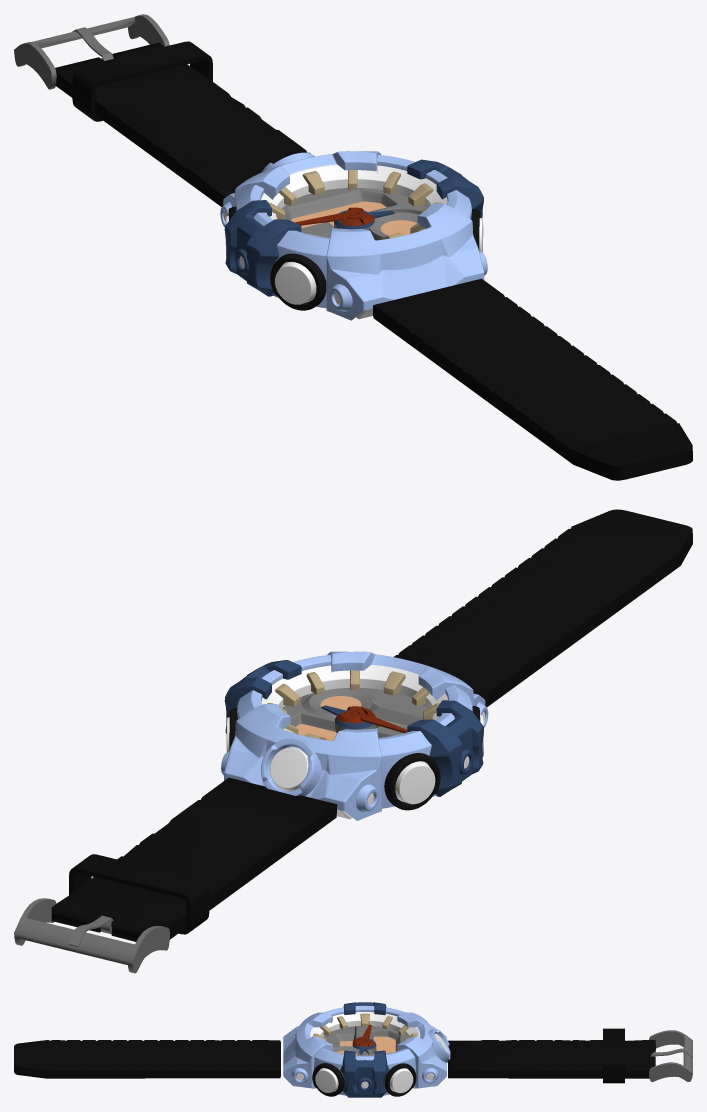
File: sport_watch.fbx
The picture shows the model from 3 angles, top to bottom: view 1: azimuth 30°, elevation 25°; view 2: azimuth 150°, elevation 25°; view 3: azimuth 270°, elevation 25°; orthographic projection. The views are drawn at different scales.
Parts seen in each view (by area): view 1: sport watch012, sport watch013, sport watch020, sport watch027, sport watch019, sport watch014, sport watch017, sport watch021, sport watch032, sport watch026, sport watch022, sport watch016 (+4 smaller); view 2: sport watch012, sport watch013, sport watch017, sport watch027, sport watch032, sport watch014, sport watch019, sport watch016, sport watch021, sport watch020, sport watch026, sport watch022 (+4 smaller); view 3: sport watch012, sport watch013, sport watch017, sport watch020, sport watch018, sport watch027, sport watch032, sport watch014, sport watch025, sport watch016, sport watch021, sport watch029 (+5 smaller).
Boxes of the visible parts, <box> form: sport watch012: <box>373,278,692,480</box>; sport watch013: <box>55,42,314,206</box>; sport watch020: <box>326,203,487,320</box>; sport watch027: <box>282,188,425,240</box>; sport watch019: <box>224,200,301,296</box>; sport watch014: <box>72,41,212,121</box>; sport watch017: <box>220,151,381,227</box>; sport watch021: <box>261,164,447,231</box>; sport watch032: <box>14,14,169,89</box>; sport watch026: <box>236,185,329,307</box>; sport watch022: <box>268,170,441,239</box>; sport watch016: <box>225,215,483,304</box>; sport watch012: <box>394,509,692,706</box>; sport watch013: <box>51,777,337,941</box>; sport watch017: <box>221,704,381,820</box>; sport watch027: <box>282,688,427,740</box>; sport watch032: <box>14,898,169,973</box>; sport watch014: <box>69,854,209,934</box>; sport watch019: <box>407,700,483,796</box>; sport watch016: <box>226,715,483,804</box>; sport watch021: <box>261,665,447,733</box>; sport watch020: <box>327,651,488,727</box>; sport watch026: <box>378,685,472,807</box>; sport watch022: <box>267,670,439,739</box>; sport watch012: <box>14,1040,280,1078</box>; sport watch013: <box>447,1040,655,1078</box>; sport watch017: <box>397,1012,450,1088</box>; sport watch020: <box>283,1012,332,1088</box>; sport watch018: <box>340,1050,389,1097</box>; sport watch027: <box>323,1025,406,1055</box>; sport watch032: <box>649,1030,692,1081</box>; sport watch014: <box>603,1028,624,1083</box>; sport watch025: <box>314,1048,415,1095</box>; sport watch016: <box>315,1033,448,1093</box>; sport watch021: <box>310,1012,420,1037</box>; sport watch029: <box>312,1063,416,1096</box>.
Bounding box in the file's own units: 166 × 57.7 × 723.
